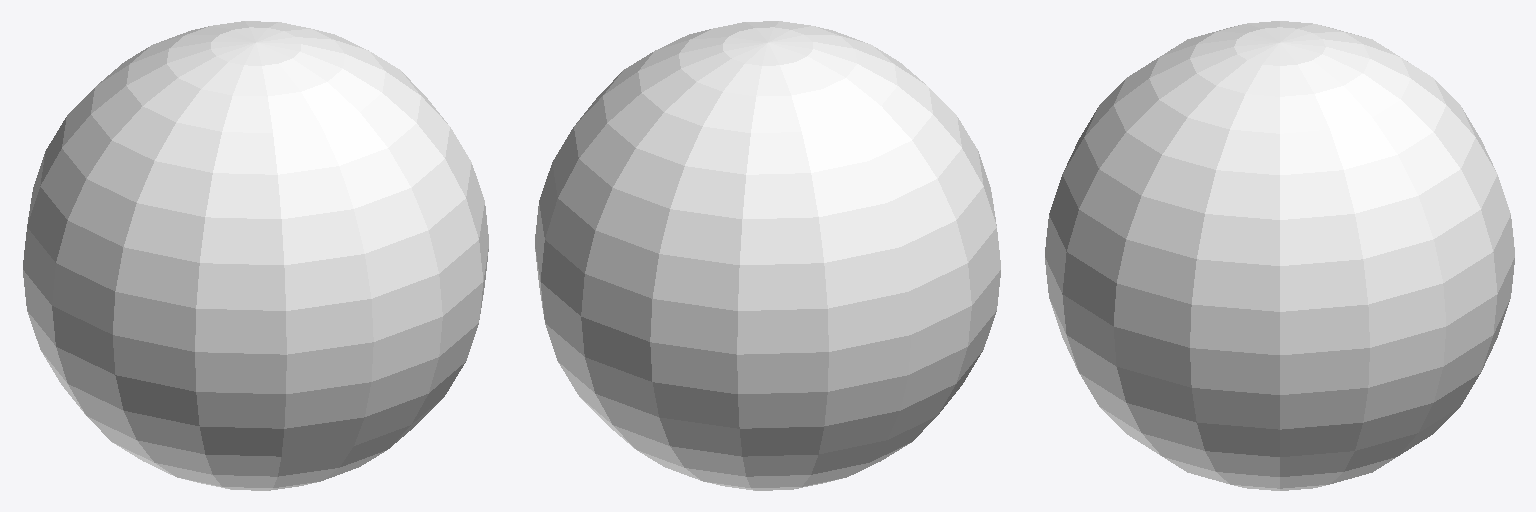
Rendered from fold.obj.
3 renders of one model, left to right at view 1: azimuth 30°, elevation 25°; view 2: azimuth 150°, elevation 25°; view 3: azimuth 270°, elevation 25°, orthographic.
Parts seen in each view (by area): view 1: _Geometry_0; view 2: _Geometry_0; view 3: _Geometry_0.
Boxes of the visible parts, x1,y1,x2,y2 form: _Geometry_0: [23, 21, 488, 490]; _Geometry_0: [535, 21, 1000, 490]; _Geometry_0: [1045, 21, 1514, 490].
Bounding box in the file's own units: 2 × 2 × 2.